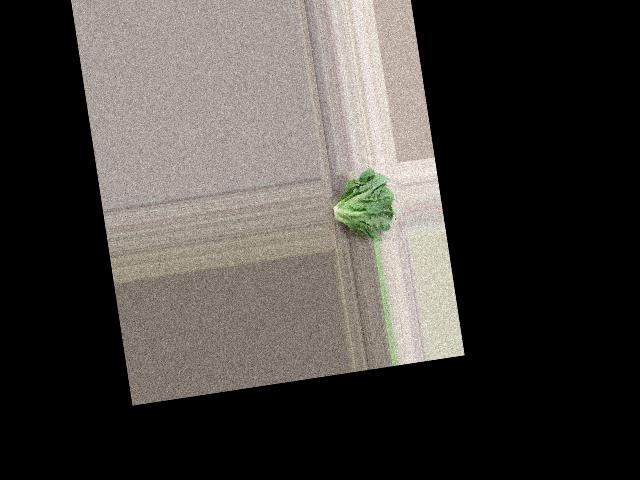lettuce: (323, 167, 402, 248)
